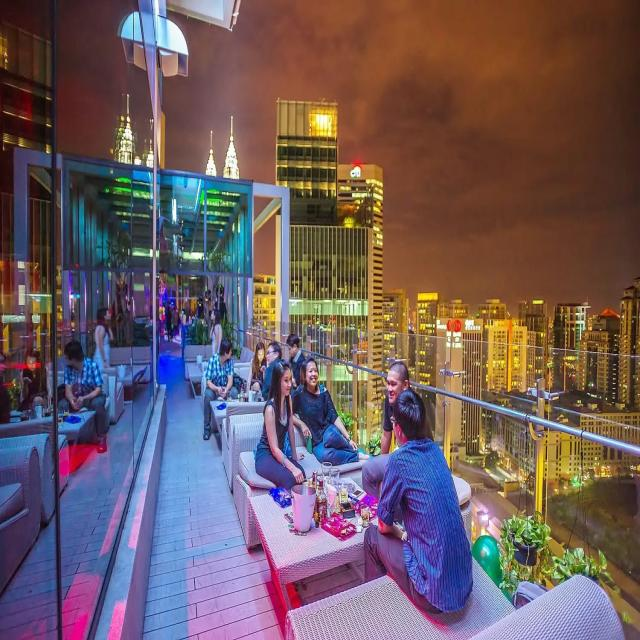person: (368, 392, 477, 624), (298, 356, 365, 466), (374, 355, 446, 448), (56, 338, 112, 451), (262, 354, 303, 499), (200, 347, 243, 422), (97, 311, 124, 378), (266, 326, 285, 392), (204, 311, 230, 354), (289, 326, 309, 376), (255, 336, 268, 388)
